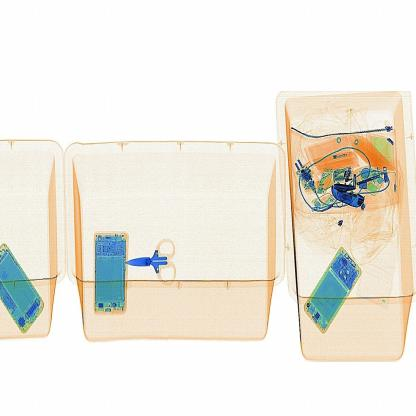gun: (118, 228, 183, 289)
